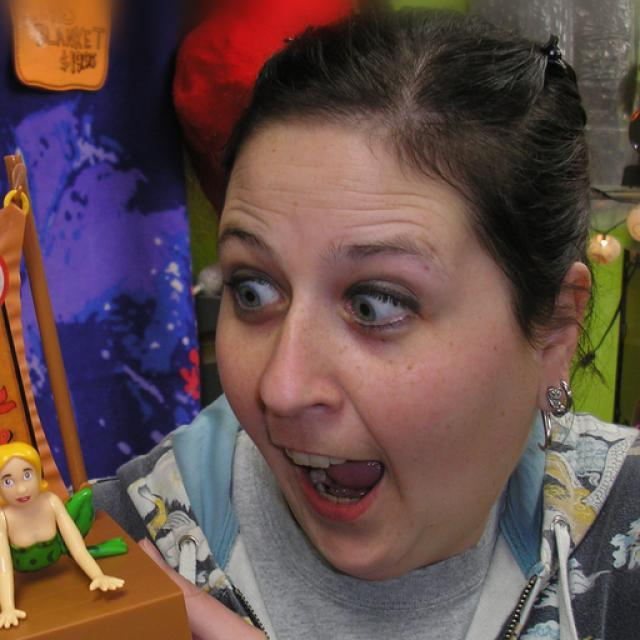surprise: (211, 103, 539, 576)
